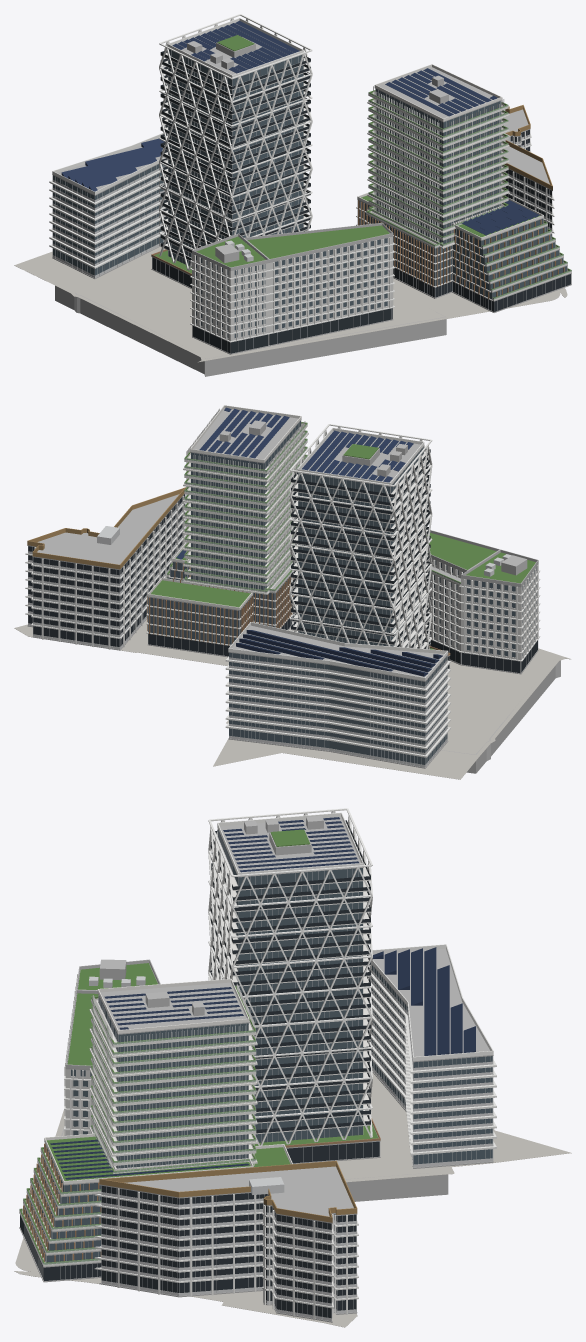
3 renders of one model, top to bottom at view 1: azimuth 30°, elevation 25°; view 2: azimuth 150°, elevation 25°; view 3: azimuth 270°, elevation 25°, orthographic. The views are drawn at different scales.
Visible parts, largest first — view 1: Site, A diagrid face 1, A diagrid face 2, A diagrid ring beams, A PV array, D sawtooth roof, U-B1 ext wall 5, B PV array, C2 green roof, U-B2 ext wall 5, C2-GF curtain wall, B roof slab (+58 smaller); view 2: Site, A diagrid face 1, A diagrid face 4, E roof slab, D sawtooth roof, A diagrid ring beams, A PV array, D roof slab, B PV array, D parapet, D-GF curtain wall, E parapet (+70 smaller); view 3: Site, A diagrid face 3, D sawtooth roof, E roof slab, A diagrid ring beams, B roof slab, A roof slab, E parapet, D roof slab, A PV array, A diagrid face 2, E-GF curtain wall (+75 smaller).
Part boxes in pixels (<box>): Site: <box>14,246,567,362</box>; A diagrid face 1: <box>159,47,231,270</box>; A diagrid face 2: <box>231,53,312,237</box>; A diagrid ring beams: <box>159,14,312,249</box>; A PV array: <box>172,20,299,73</box>; D sawtooth roof: <box>61,138,165,191</box>; U-B1 ext wall 5: <box>205,326,446,375</box>; B PV array: <box>385,68,497,116</box>; C2 green roof: <box>247,225,389,258</box>; U-B2 ext wall 5: <box>205,317,446,366</box>; C2-GF curtain wall: <box>269,308,392,345</box>; B roof slab: <box>374,67,501,122</box>; Site: <box>14,619,571,779</box>; A diagrid face 1: <box>393,445,432,649</box>; A diagrid face 4: <box>289,472,394,646</box>; E roof slab: <box>27,494,184,570</box>; D sawtooth roof: <box>236,630,442,676</box>; A diagrid ring beams: <box>289,424,432,648</box>; A PV array: <box>302,430,413,482</box>; D roof slab: <box>228,625,448,681</box>; B PV array: <box>199,407,289,458</box>; D parapet: <box>228,622,448,680</box>; D-GF curtain wall: <box>229,728,447,764</box>; E parapet: <box>27,487,186,569</box>; Site: <box>14,1073,571,1327</box>; A diagrid face 3: <box>232,867,372,1145</box>; D sawtooth roof: <box>373,947,475,1055</box>; E roof slab: <box>99,1166,357,1223</box>; A diagrid ring beams: <box>208,808,372,1118</box>; B roof slab: <box>97,982,249,1034</box>; A roof slab: <box>217,816,363,877</box>; E parapet: <box>99,1160,357,1222</box>; D roof slab: <box>369,948,493,1062</box>; A PV array: <box>223,817,359,872</box>; A diagrid face 2: <box>208,827,233,980</box>; E-GF curtain wall: <box>101,1270,356,1318</box>.
Size of the model in its own units: 192 by 96.75 by 154.
